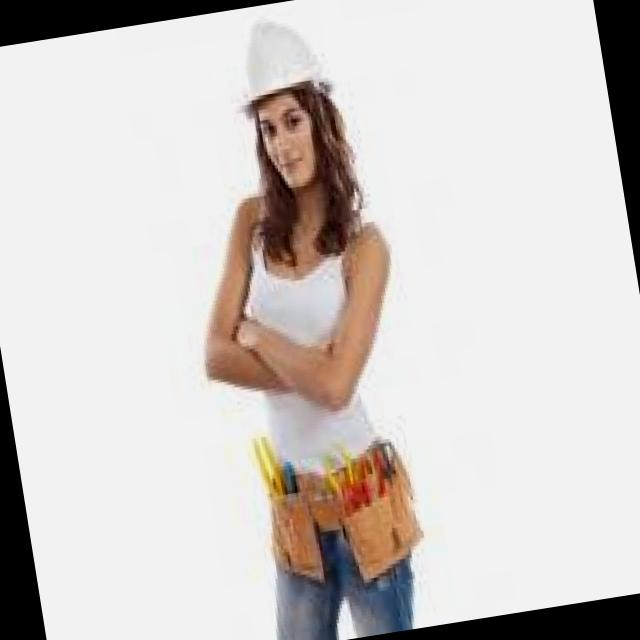helmet: (210, 2, 344, 129)
no-goggles: (240, 94, 342, 154)
no-vest: (210, 172, 410, 467)
